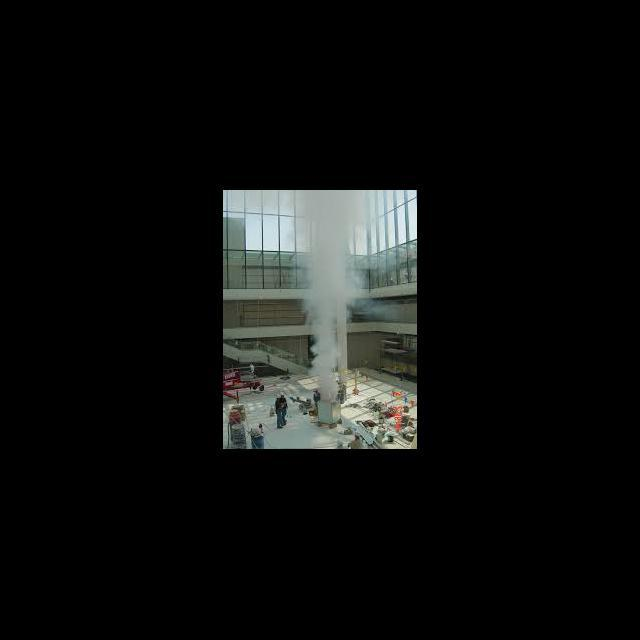Smoke: (293, 191, 368, 395)
